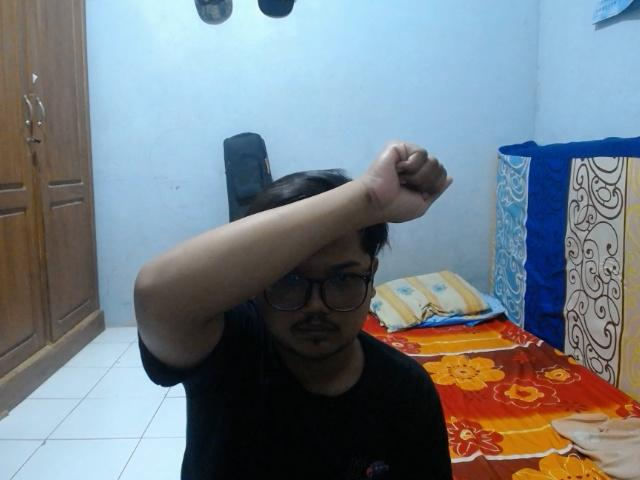Grab: (358, 139, 456, 230)
